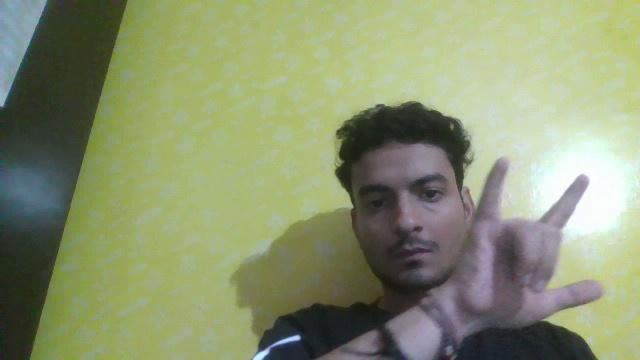Loveyou: (436, 146, 627, 335)
